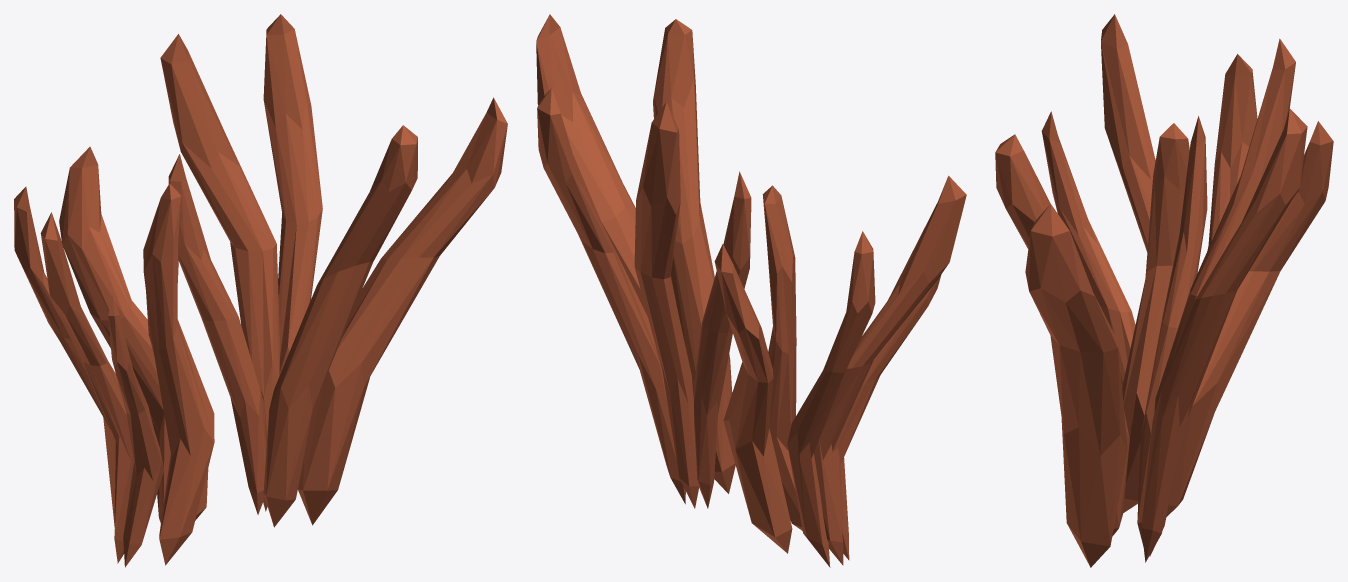
File: Grass1.fbx
The picture shows the model from 3 angles, left to right: view 1: azimuth 30°, elevation 25°; view 2: azimuth 150°, elevation 25°; view 3: azimuth 270°, elevation 25°; orthographic projection. The views are drawn at different scales.
Parts seen in each view (by area): view 1: Icosphere.007; view 2: Icosphere.007; view 3: Icosphere.007.
Part boxes in pixels (bbox=[...]): Icosphere.007: bbox=[14, 14, 507, 567]; Icosphere.007: bbox=[536, 14, 966, 567]; Icosphere.007: bbox=[995, 14, 1333, 567].
Bounding box in the file's own units: 89.77 × 90.77 × 53.21.
